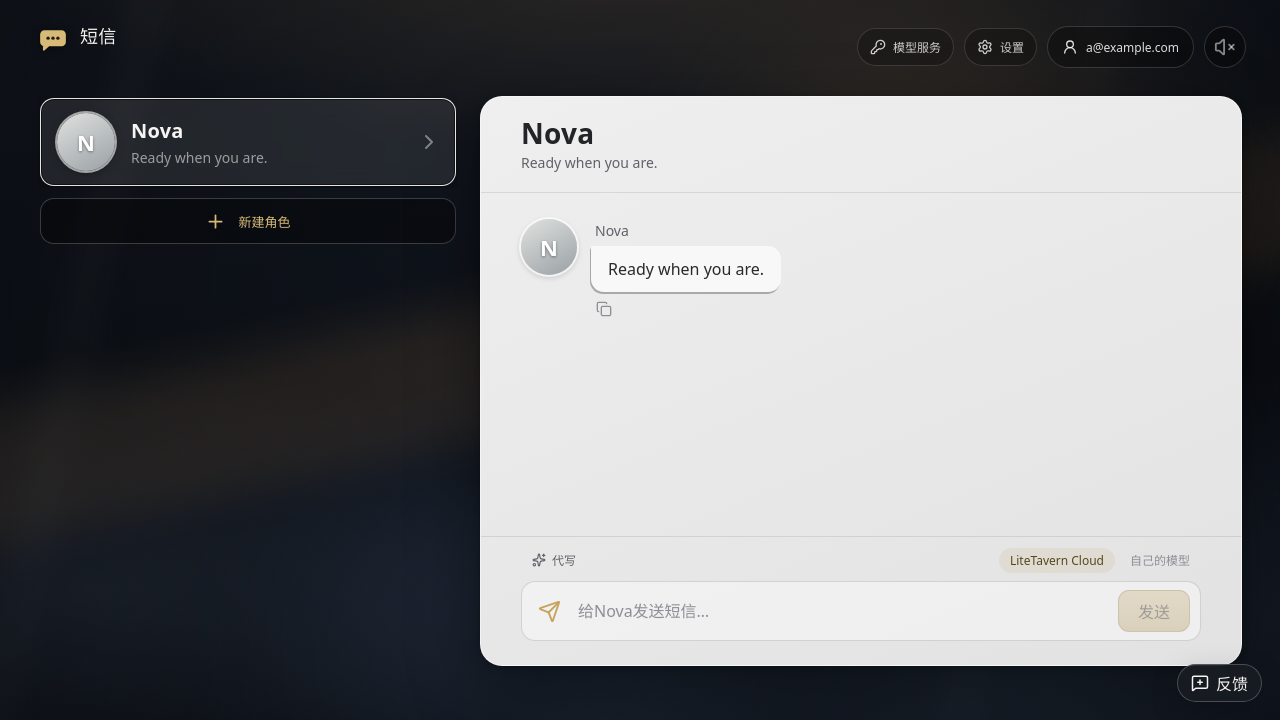
Test case: retries under a fresh key so one failure cannot disable 代写 for good
Expected: the text box with placeholder "Nova" is shown, [576, 597, 1106, 625]
Click the button "代写" at (554, 560), box [521, 547, 587, 573]
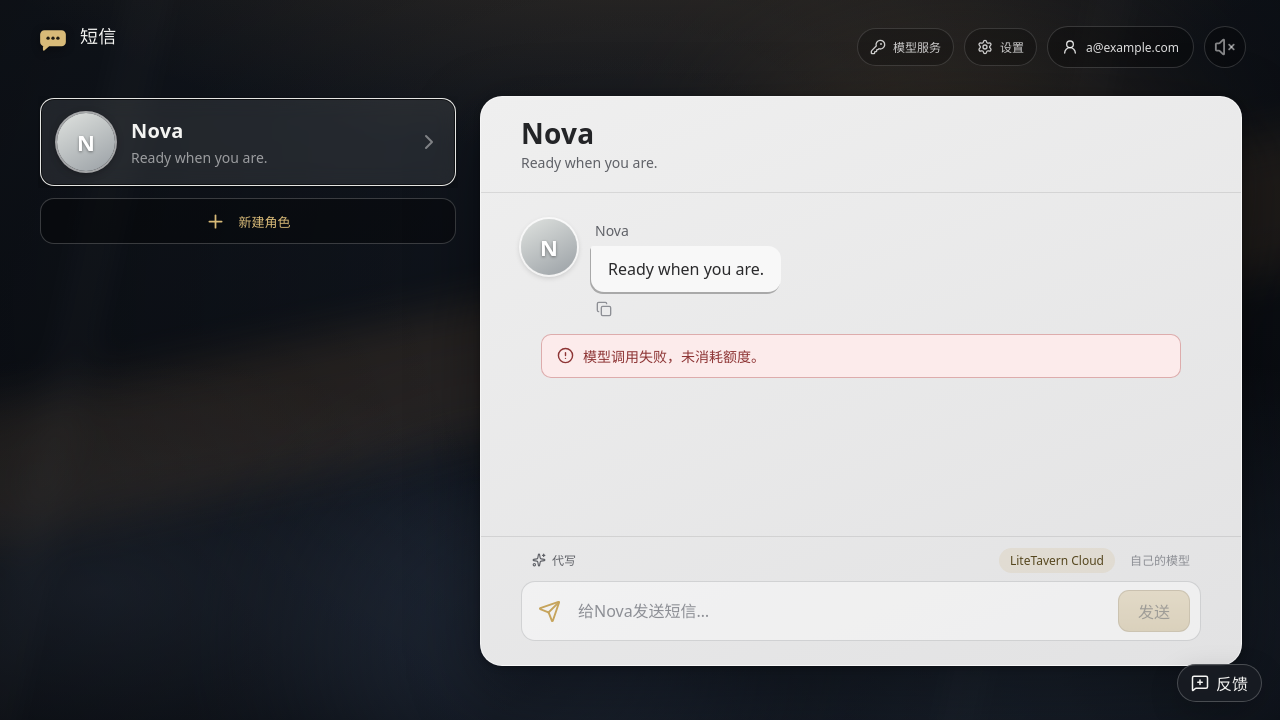
Expected: the text "模型调用失败，未消耗额度。" is shown, [541, 334, 1181, 378]
Click the button "代写" at (554, 560), box [521, 547, 587, 573]
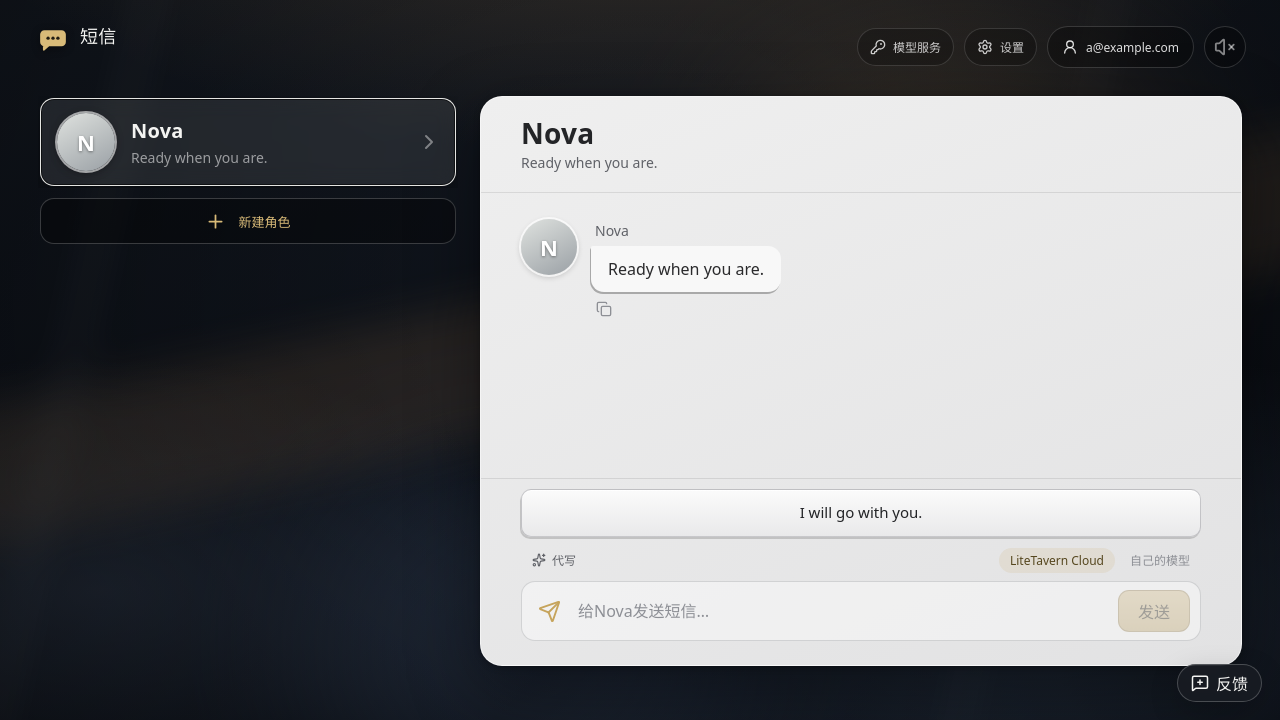
Expected: the button "I will go with you." is shown, [521, 489, 1201, 537]
